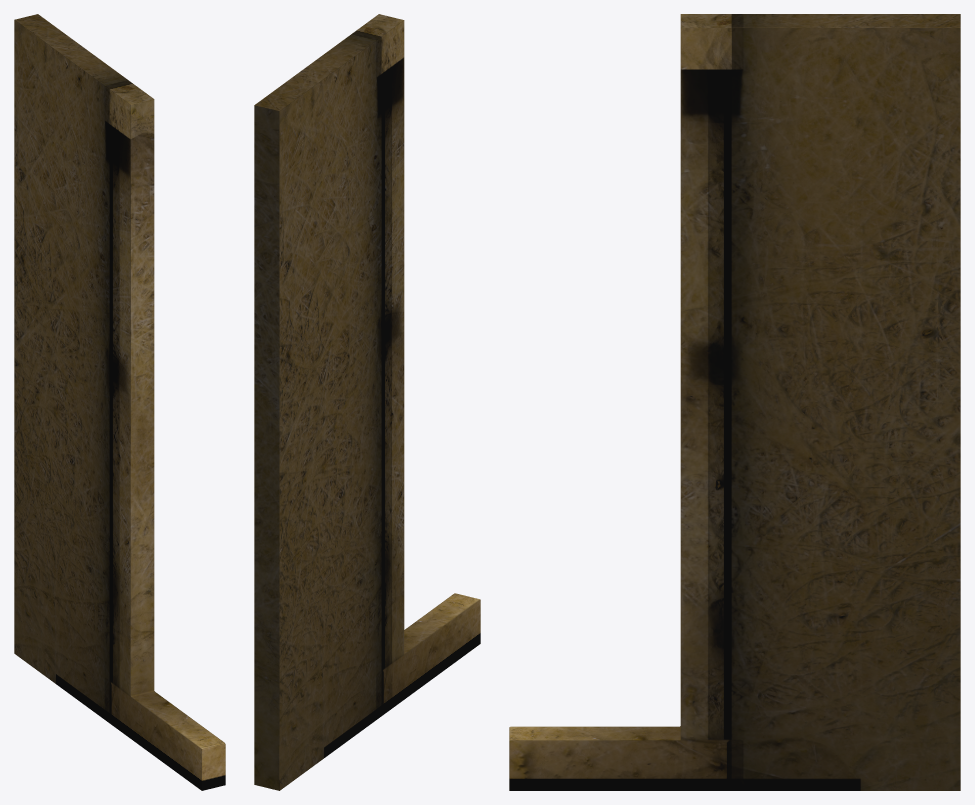
File: STANDARD_ACOUSTIC.glb
3 renders of one model, left to right at view 1: azimuth 30°, elevation 25°; view 2: azimuth 150°, elevation 25°; view 3: azimuth 270°, elevation 25°, orthographic. The views are drawn at different scales.
Visible parts, largest first — view 1: Cube.108; view 2: Cube.108; view 3: Cube.108.
Boxes of the visible parts, bbox=[...] form: Cube.108: bbox=[14, 14, 225, 790]; Cube.108: bbox=[254, 14, 480, 790]; Cube.108: bbox=[509, 14, 960, 790].
Bounding box in the file's own units: 0.0697 × 1.79 × 0.961.
1 material, 1 textured.
